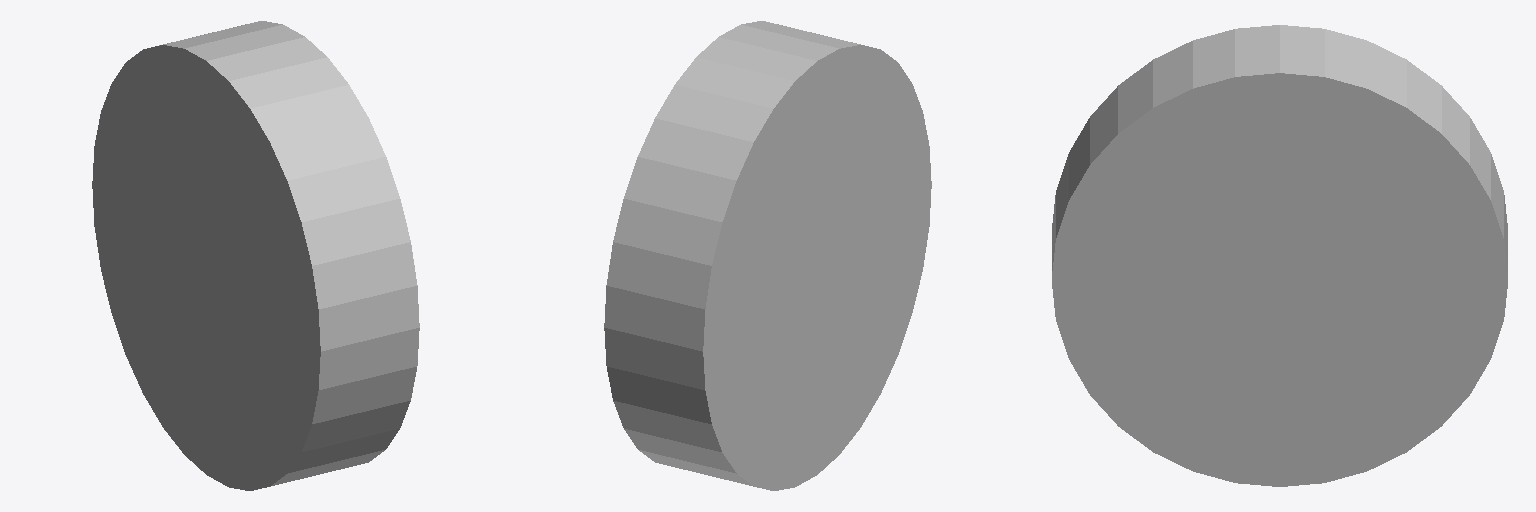
Rendered from wheel.obj.
3 renders of one model, left to right at view 1: azimuth 30°, elevation 25°; view 2: azimuth 150°, elevation 25°; view 3: azimuth 270°, elevation 25°, orthographic.
Parts seen in each view (by area): view 1: Cylinder; view 2: Cylinder; view 3: Cylinder.
Part boxes in pixels (x1,y1,x2,y2): Cylinder: (92,21,419,490); Cylinder: (604,21,931,490); Cylinder: (1052,25,1507,486).
Size of the model in its own units: 0.125 by 0.5 by 0.5.